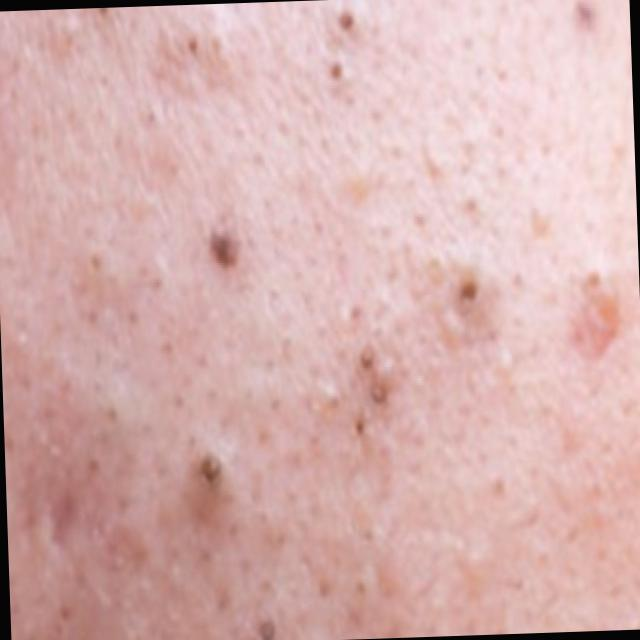blackhead: (215, 234, 239, 266), (202, 456, 220, 479), (260, 622, 275, 640), (94, 7, 114, 20), (361, 350, 374, 368), (372, 384, 385, 402), (580, 4, 594, 20), (463, 282, 476, 298), (340, 15, 352, 28), (331, 64, 342, 78), (590, 272, 600, 286), (356, 419, 363, 434), (190, 40, 198, 51)
